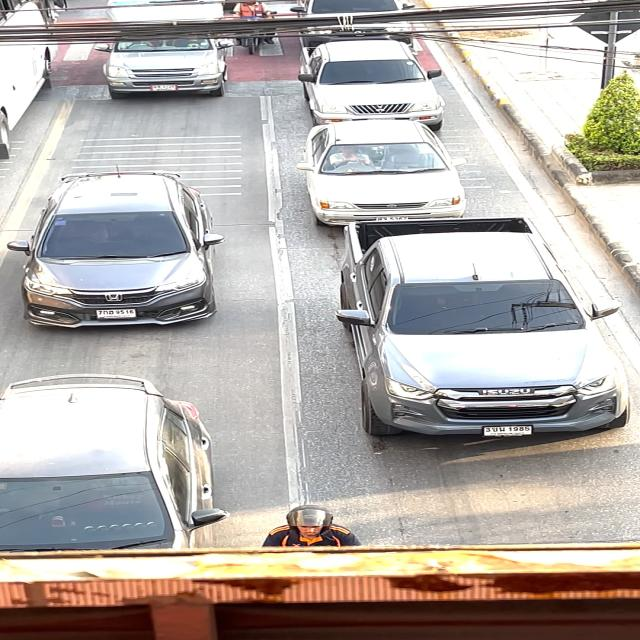car: (324, 215, 640, 450), (0, 367, 232, 556), (2, 163, 243, 331), (296, 134, 476, 222), (291, 42, 459, 128), (104, 0, 237, 98), (284, 0, 427, 41)
